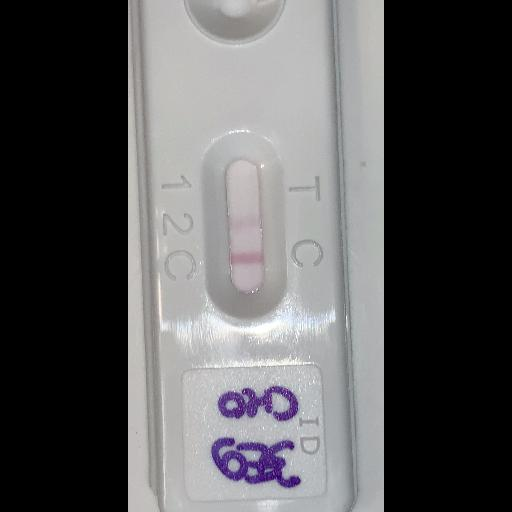Pos: (138, 0, 356, 512)
